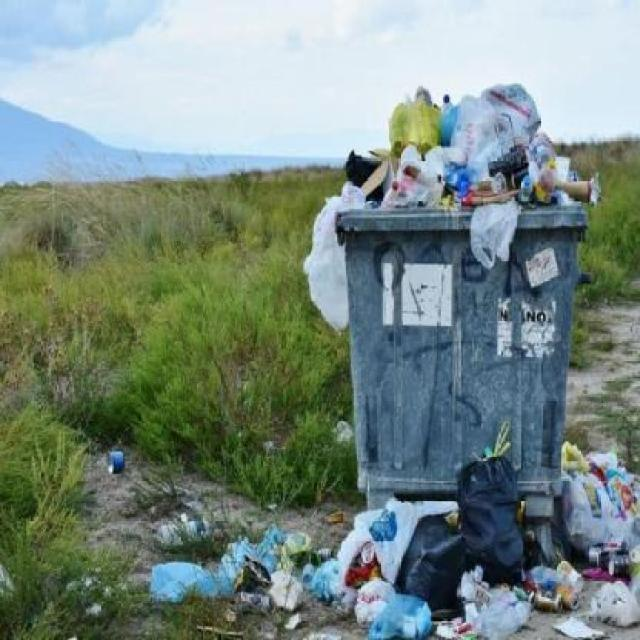garbage: (320, 454, 632, 636), (342, 75, 583, 212), (131, 522, 341, 628)
